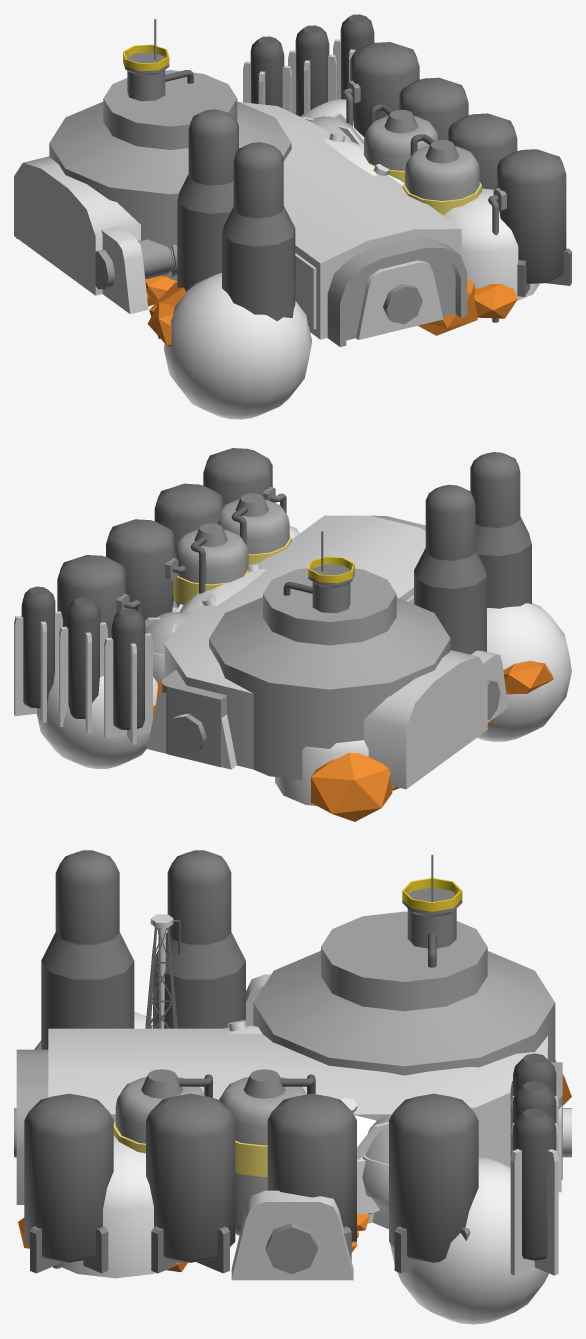
Rendered from Refinery.glb.
The picture shows the model from 3 angles, top to bottom: view 1: azimuth 30°, elevation 25°; view 2: azimuth 150°, elevation 25°; view 3: azimuth 270°, elevation 25°; orthographic projection. The views are drawn at different scales.
Visible parts, largest first — view 1: Cube, Cube.001, Cylinder.001, Sphere.002, Cylinder.038, Cylinder, Cube.002, Cube.050, Cube.046, Tunnel.019, Cylinder.011, Icosphere.005 (+7 smaller); view 2: Cylinder.001, Cube, Cube.002, Cube.001, Cylinder, Cylinder.038, Sphere.002, Icosphere.005, Sphere.003, Cylinder.012, Tunnel.002, Cylinder.011 (+7 smaller); view 3: Cube.001, Cylinder.001, Cube, Cylinder.038, Cylinder, Sphere.003, Cube.002, Cube.050, Tunnel.019, Cylinder.012, Cylinder.016, Cylinder.011 (+7 smaller).
Boxes of the visible parts, box(x1,y1,x2,y2) form: Cube: box(14, 102, 461, 339); Cube.001: box(347, 42, 571, 296); Cylinder.001: box(49, 70, 291, 280); Sphere.002: box(164, 272, 311, 419); Cylinder.038: box(222, 142, 295, 321); Cylinder: box(177, 109, 238, 291); Cube.002: box(243, 14, 374, 116); Cube.050: box(101, 225, 443, 339); Cube.046: box(327, 238, 467, 346); Tunnel.019: box(443, 188, 539, 300); Cylinder.011: box(402, 140, 481, 214); Icosphere.005: box(16, 238, 517, 346); Cylinder.001: box(209, 568, 450, 779); Cube: box(164, 515, 487, 789); Cube.002: box(14, 586, 152, 744); Cube.001: box(57, 448, 275, 637); Cylinder: box(414, 484, 486, 654); Cylinder.038: box(470, 452, 531, 608); Sphere.002: box(477, 602, 571, 741); Icosphere.005: box(156, 660, 553, 821); Sphere.003: box(36, 666, 157, 768); Cylinder.012: box(173, 523, 249, 607); Tunnel.002: box(161, 670, 226, 767); Cylinder.011: box(218, 493, 291, 564); Cube.001: box(24, 1093, 478, 1273); Cylinder.001: box(253, 911, 555, 1075); Cube: box(48, 1028, 547, 1167); Cylinder.038: box(41, 850, 134, 1049); Cylinder: box(153, 850, 245, 1028); Sphere.003: box(390, 1157, 548, 1324); Cube.002: box(510, 1053, 558, 1275); Cube.050: box(231, 974, 561, 1280); Tunnel.019: box(57, 1135, 155, 1278); Cylinder.012: box(219, 1069, 306, 1235); Cylinder.016: box(402, 854, 462, 948); Cylinder.011: box(113, 1069, 205, 1153).
Size of the model in its own units: 6 by 4.24 by 5.99.
2 materials, 2 textured.
